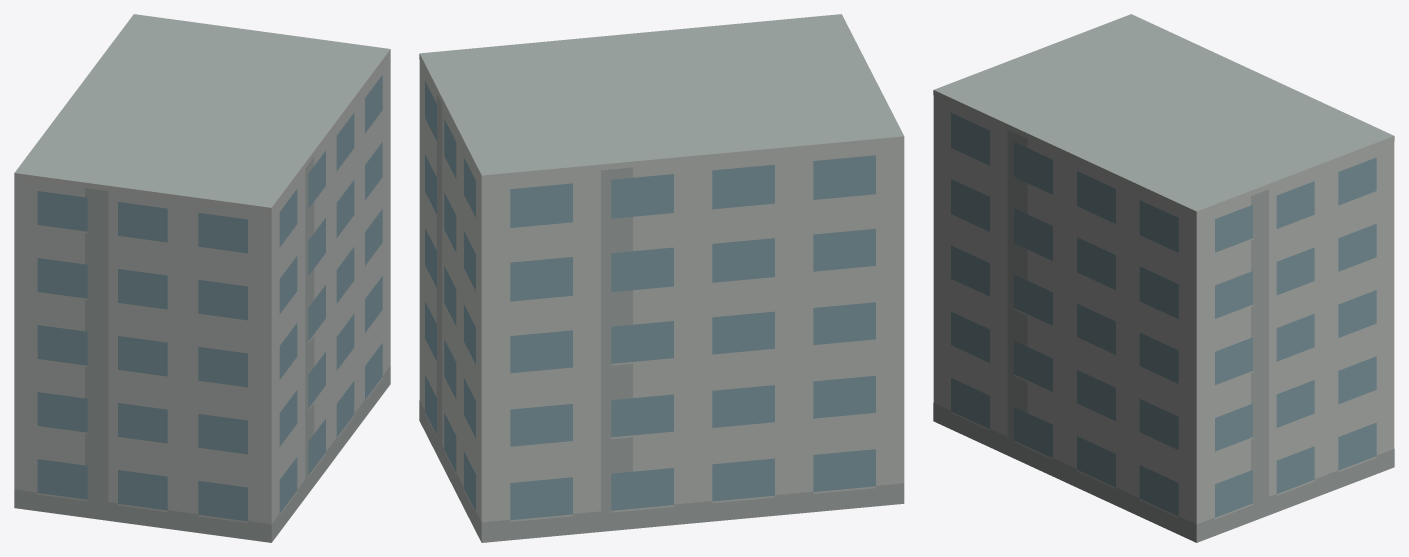
Rendered from survey-upis-32832697.glb.
3 views of the same model, side by side, from view 1: azimuth 30°, elevation 25°; view 2: azimuth 150°, elevation 25°; view 3: azimuth 270°, elevation 25° (orthographic). The views are drawn at different scales.
Parts seen in each view (by area): view 1: survey-upis-32832697.tmp; view 2: survey-upis-32832697.tmp; view 3: survey-upis-32832697.tmp.
Part boxes in pixels (x1,y1,x2,y2): survey-upis-32832697.tmp: (14, 14, 390, 542); survey-upis-32832697.tmp: (419, 14, 904, 542); survey-upis-32832697.tmp: (933, 14, 1394, 542).
Size of the model in its own units: 19.06 by 14.9 by 18.79.
